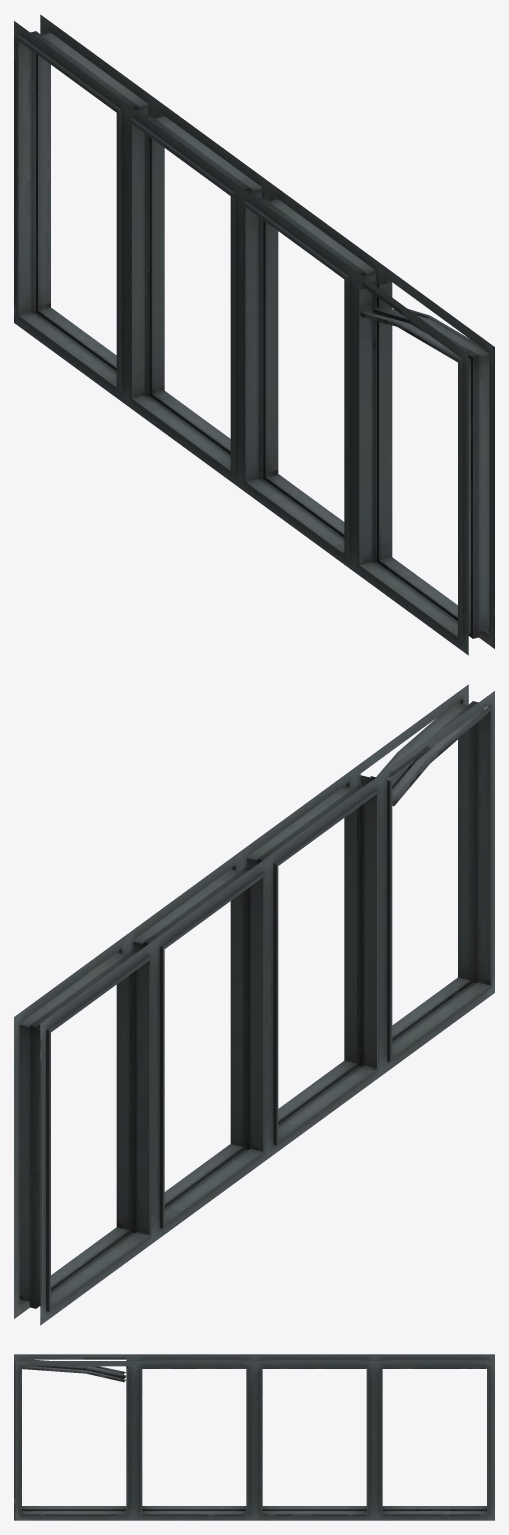
3 views of the same model, one above another, from view 1: azimuth 30°, elevation 25°; view 2: azimuth 150°, elevation 25°; view 3: azimuth 270°, elevation 25° (orthographic). The views are drawn at different scales.
Visible parts, largest first — view 1: body0_model0_lod0_mesh0; view 2: body0_model0_lod0_mesh0; view 3: body0_model0_lod0_mesh0.
Boxes of the visible parts, x1,y1,x2,y2 form: body0_model0_lod0_mesh0: (14, 14, 494, 655); body0_model0_lod0_mesh0: (14, 684, 494, 1325); body0_model0_lod0_mesh0: (14, 1354, 494, 1520).
Bounding box in the file's own units: 9.99 × 87.99 × 240.
1 material, 1 textured.
